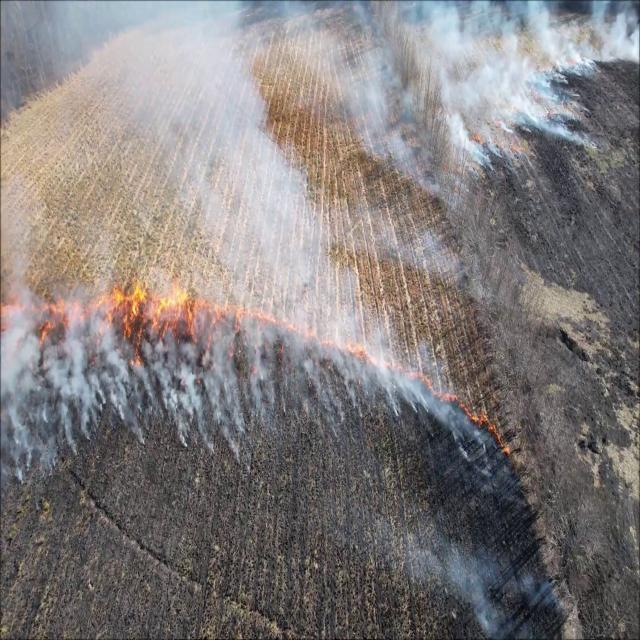Fire: (108, 287, 190, 347)
Smoke: (176, 21, 337, 294), (444, 15, 589, 178), (412, 533, 555, 640), (2, 323, 52, 498), (65, 329, 104, 466), (169, 371, 234, 451)
